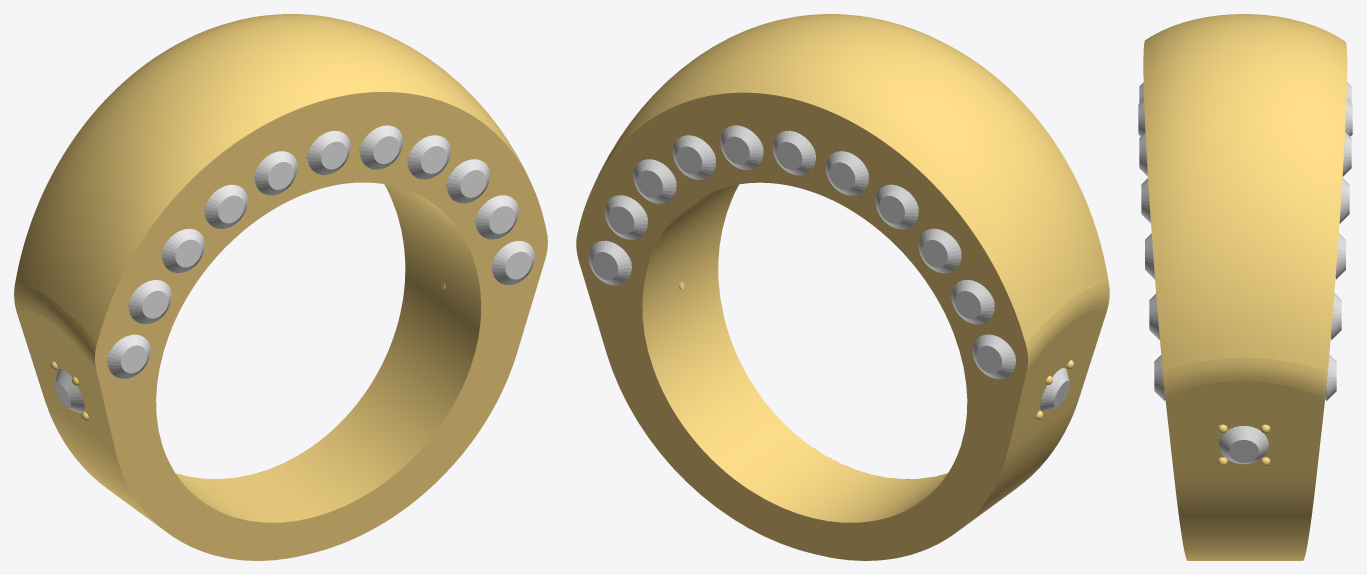
File: Juliav1_blender.glb
The picture shows the model from 3 angles, left to right: view 1: azimuth 30°, elevation 25°; view 2: azimuth 150°, elevation 25°; view 3: azimuth 270°, elevation 25°; orthographic projection.
Visible parts, largest first — view 1: Julia YG for 3d model, Julia dia for 3d model.010, Julia dia for 3d model.011, Julia dia for 3d model.002, Julia dia for 3d model.019, Julia dia for 3d model.006, Julia dia for 3d model.003, Julia dia for 3d model.014, Julia dia for 3d model.020, Julia dia for 3d model.015, Julia dia for 3d model.021, Julia dia for 3d model.007 (+1 smaller); view 2: Julia YG for 3d model, Julia dia for 3d model.013, Julia dia for 3d model, Julia dia for 3d model.017, Julia dia for 3d model.009, Julia dia for 3d model.005, Julia dia for 3d model.016, Julia dia for 3d model.001, Julia dia for 3d model.004, Julia dia for 3d model.018, Julia dia for 3d model.012, Julia dia for 3d model.008 (+1 smaller); view 3: Julia YG for 3d model, Julia dia for 3d model.024, Julia dia for 3d model, Julia dia for 3d model.008, Julia dia for 3d model.002, Julia dia for 3d model.010, Julia dia for 3d model.004, Julia dia for 3d model.012, Julia dia for 3d model.006, Julia dia for 3d model.014, Julia dia for 3d model.017, Julia dia for 3d model.019.
Part boxes in pixels (<box>): Julia YG for 3d model: <box>14,14,547,560</box>; Julia dia for 3d model.010: <box>475,195,518,239</box>; Julia dia for 3d model.011: <box>128,280,171,324</box>; Julia dia for 3d model.002: <box>491,241,534,285</box>; Julia dia for 3d model.019: <box>359,125,402,169</box>; Julia dia for 3d model.006: <box>446,159,489,203</box>; Julia dia for 3d model.003: <box>107,334,150,378</box>; Julia dia for 3d model.014: <box>407,135,450,179</box>; Julia dia for 3d model.020: <box>254,151,297,195</box>; Julia dia for 3d model.015: <box>204,184,247,228</box>; Julia dia for 3d model.021: <box>307,130,350,174</box>; Julia dia for 3d model.007: <box>161,228,204,272</box>; Julia YG for 3d model: <box>576,14,1109,560</box>; Julia dia for 3d model.013: <box>875,184,918,229</box>; Julia dia for 3d model: <box>588,240,631,285</box>; Julia dia for 3d model.017: <box>720,125,763,169</box>; Julia dia for 3d model.009: <box>951,280,994,324</box>; Julia dia for 3d model.005: <box>918,228,961,273</box>; Julia dia for 3d model.016: <box>772,130,815,175</box>; Julia dia for 3d model.001: <box>972,334,1015,379</box>; Julia dia for 3d model.004: <box>633,159,676,203</box>; Julia dia for 3d model.018: <box>825,151,868,195</box>; Julia dia for 3d model.012: <box>672,135,715,179</box>; Julia dia for 3d model.008: <box>604,195,647,239</box>; Julia YG for 3d model: <box>1143,14,1347,560</box>; Julia dia for 3d model.024: <box>1219,426,1268,464</box>; Julia dia for 3d model: <box>1325,354,1336,400</box>; Julia dia for 3d model.008: <box>1330,293,1341,339</box>; Julia dia for 3d model.002: <box>1154,355,1165,400</box>; Julia dia for 3d model.010: <box>1149,293,1159,339</box>; Julia dia for 3d model.004: <box>1335,233,1345,279</box>; Julia dia for 3d model.012: <box>1339,177,1349,223</box>; Julia dia for 3d model.006: <box>1145,233,1154,279</box>; Julia dia for 3d model.014: <box>1141,178,1150,223</box>; Julia dia for 3d model.017: <box>1342,132,1351,176</box>; Julia dia for 3d model.019: <box>1139,132,1147,176</box>.
Bounding box in the file's own units: 21.37 × 22.07 × 8.56.
